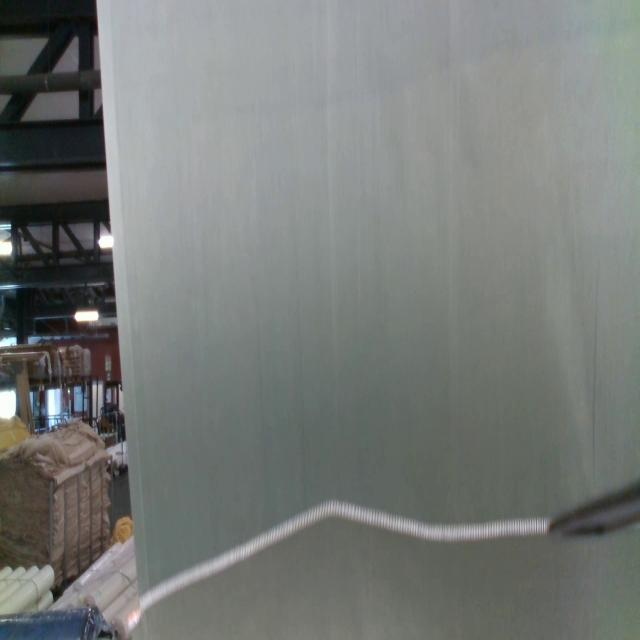color bleeding: (234, 0, 640, 127)
crease: (591, 270, 602, 487)
